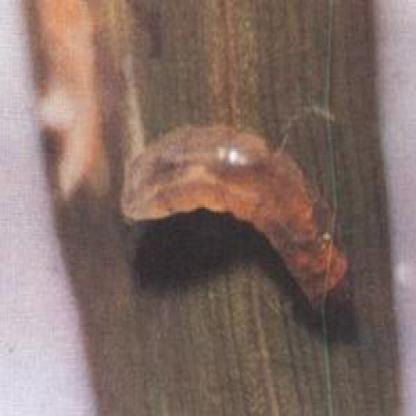whorl-maggot: (121, 122, 350, 310)
